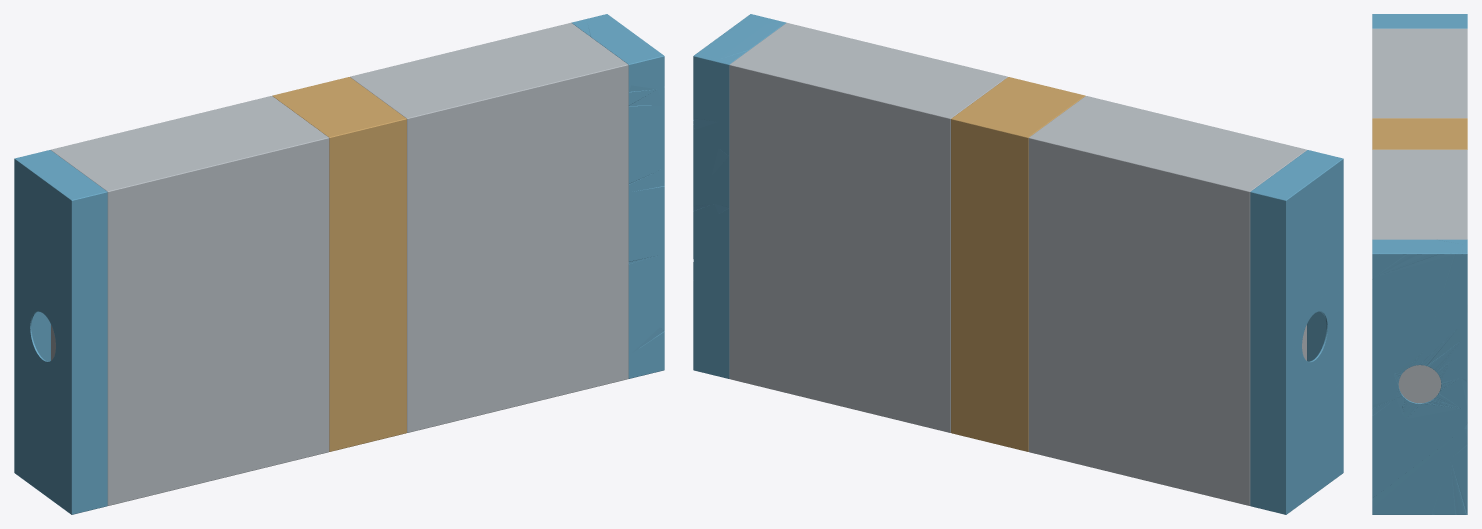
Rendered from layout.glb.
3 views of the same model, side by side, from view 1: azimuth 30°, elevation 25°; view 2: azimuth 150°, elevation 25°; view 3: azimuth 270°, elevation 25° (orthographic). The views are drawn at different scales.
Parts seen in each view (by area): view 1: core-envelope-left, core-envelope-right, charge-inlet-left, common-charge-outlet, charge-inlet-right; view 2: core-envelope-left, core-envelope-right, charge-inlet-left, common-charge-outlet, charge-inlet-right; view 3: charge-inlet-right, core-envelope-right, core-envelope-left, common-charge-outlet, charge-inlet-left.
Boxes of the visible parts, x1,y1,x2,y2 form: core-envelope-left: (51, 96, 329, 505); core-envelope-right: (350, 23, 628, 432); charge-inlet-left: (14, 150, 107, 514); common-charge-outlet: (272, 77, 406, 451); charge-inlet-right: (571, 14, 664, 378); core-envelope-left: (1028, 96, 1306, 505); core-envelope-right: (729, 23, 1007, 432); charge-inlet-left: (1250, 150, 1343, 514); common-charge-outlet: (951, 77, 1085, 451); charge-inlet-right: (693, 14, 786, 378); charge-inlet-right: (1372, 239, 1467, 514); core-envelope-right: (1372, 149, 1467, 403); core-envelope-left: (1372, 28, 1467, 118); common-charge-outlet: (1372, 118, 1467, 149); charge-inlet-left: (1372, 14, 1467, 28).
Bounding box in the file's own units: 1.07 × 0.5428 × 0.18.
